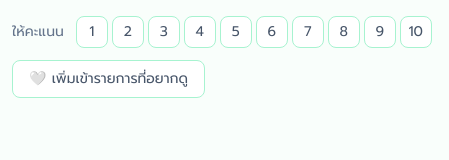
Test: เพิ่ม wishlist ล้มเหลวต้องแสดง error และหัวใจยังไม่เปลี่ยนเป็นเพิ่มแล้ว
Click the button "🤍 เพิ่มเข้ารายการที่อยากดู" at (108, 79), box [12,60,205,98]
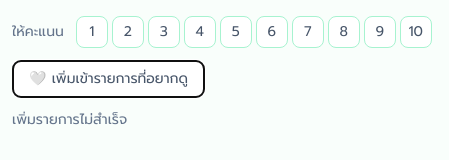
Check: the text "เพิ่มรายการไม่สำเร็จ" is shown, box [12,109,127,130]
